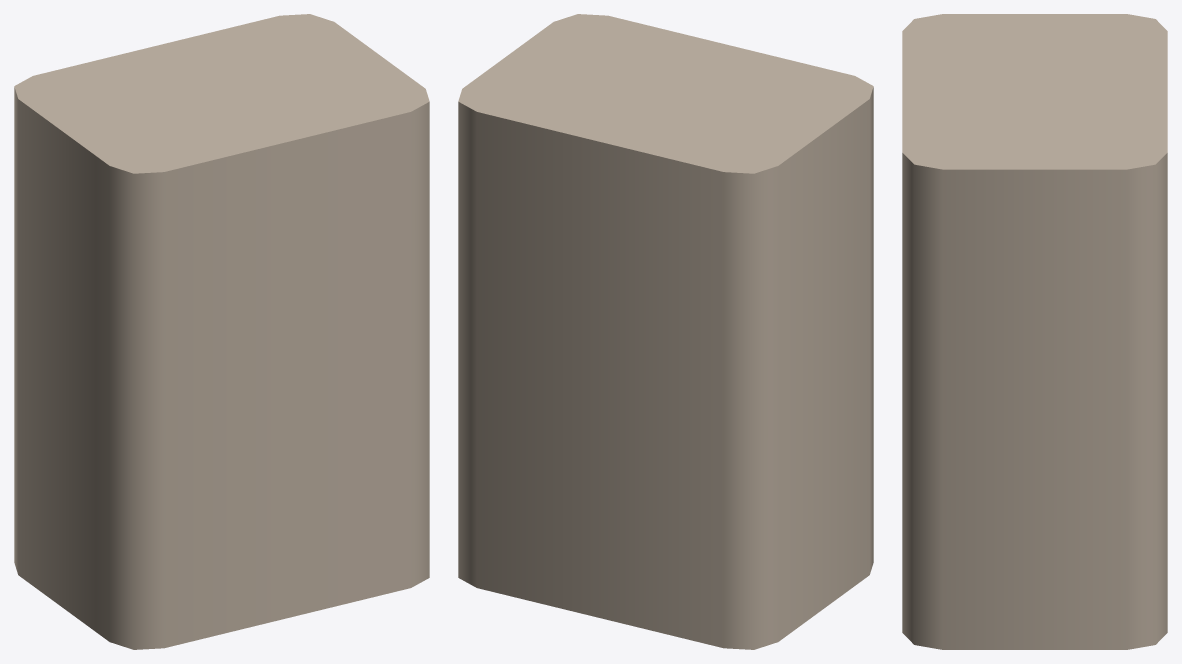
Rendered from Fireplace_1_Chimney.fbx.
3 renders of one model, left to right at view 1: azimuth 30°, elevation 25°; view 2: azimuth 150°, elevation 25°; view 3: azimuth 270°, elevation 25°, orthographic.
Parts seen in each view (by area): view 1: Fireplace_1_Chimney_LOD0; view 2: Fireplace_1_Chimney_LOD0; view 3: Fireplace_1_Chimney_LOD0.
Boxes of the visible parts, box(x1,y1,x2,y2) form: Fireplace_1_Chimney_LOD0: box(14, 14, 429, 649); Fireplace_1_Chimney_LOD0: box(458, 14, 873, 649); Fireplace_1_Chimney_LOD0: box(902, 14, 1167, 649).
Size of the model in its own units: 69.46 by 100 by 50.
